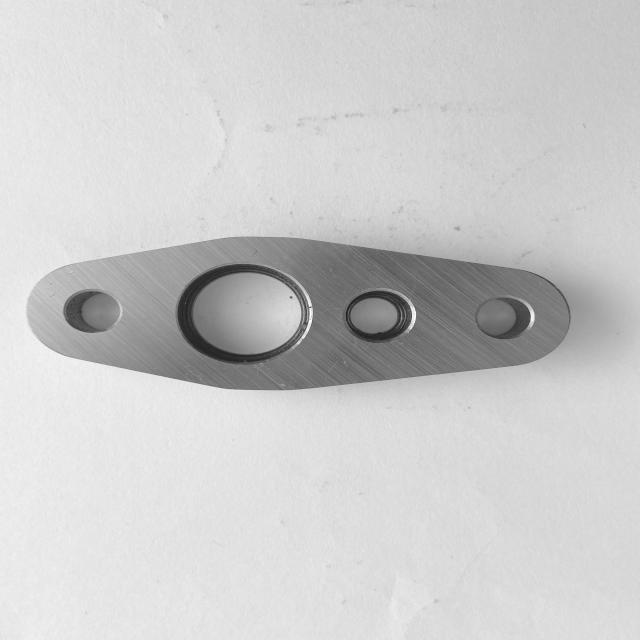chap: (277, 382, 289, 388), (68, 269, 76, 275)
